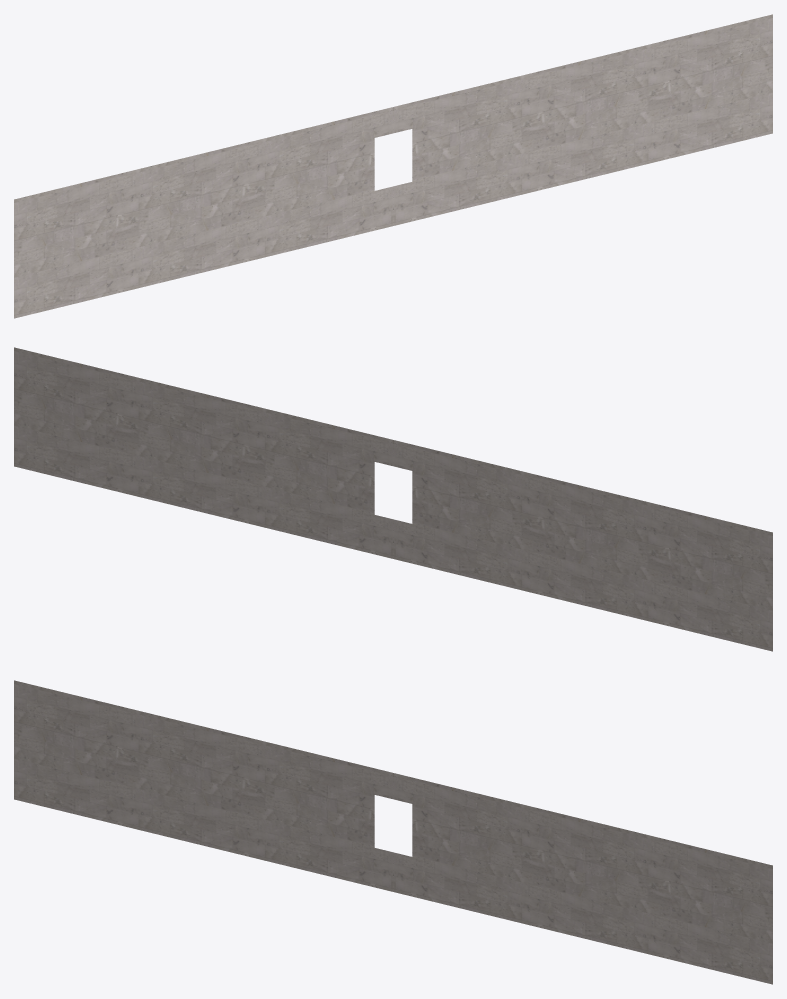
File: wall2.fbx
The picture shows the model from 3 angles, top to bottom: view 1: azimuth 30°, elevation 25°; view 2: azimuth 150°, elevation 25°; view 3: azimuth 330°, elevation 25°; orthographic projection.
Parts seen in each view (by area): view 1: Outer wall; view 2: Outer wall; view 3: Outer wall.
Part boxes in pixels (x1=…): Outer wall: x1=14, y1=14, x2=772, y2=318; Outer wall: x1=14, y1=347, x2=772, y2=651; Outer wall: x1=14, y1=680, x2=772, y2=984.
Bounding box in the file's own units: 60 × 0 × 9.
1 material, 1 textured.
